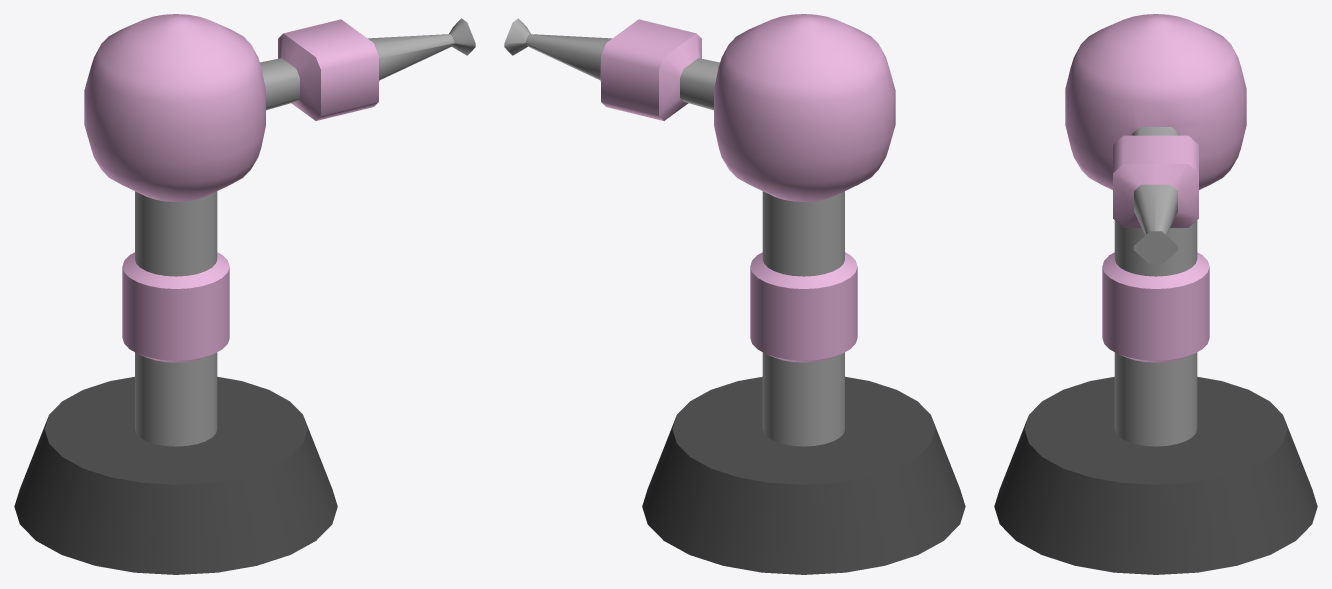
The model's file is Bubble Turret.fbx.
The picture shows the model from 3 angles, left to right: view 1: azimuth 30°, elevation 25°; view 2: azimuth 150°, elevation 25°; view 3: azimuth 270°, elevation 25°; orthographic projection.
Parts seen in each view (by area): view 1: Cylinder; view 2: Cylinder; view 3: Cylinder.
Boxes of the visible parts, <box> form: Cylinder: <box>14,14,475,574</box>; Cylinder: <box>504,14,965,574</box>; Cylinder: <box>994,14,1317,574</box>.
Bounding box in the file's own units: 306 × 332 × 200.
